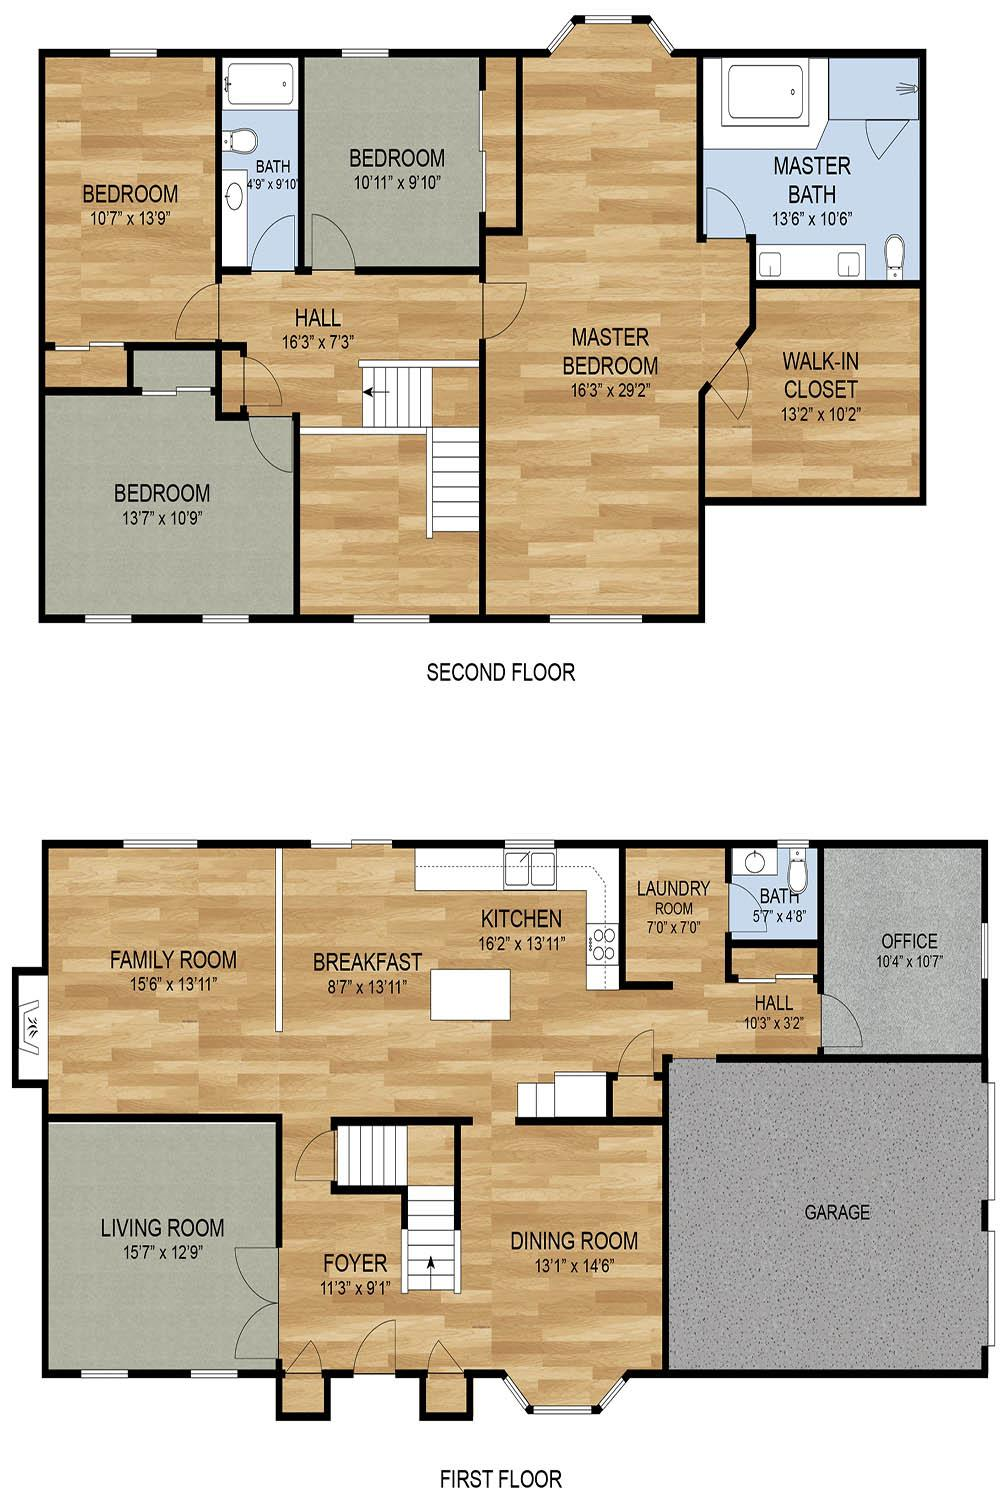room: (279, 842, 665, 1366), (482, 52, 702, 616), (666, 1056, 990, 1371), (45, 843, 278, 1117), (45, 1115, 279, 1375), (41, 386, 300, 621), (700, 50, 926, 285), (44, 54, 218, 345), (700, 285, 922, 504), (302, 55, 482, 269), (821, 845, 984, 1057), (219, 54, 300, 270), (623, 845, 729, 984), (729, 845, 820, 978)
